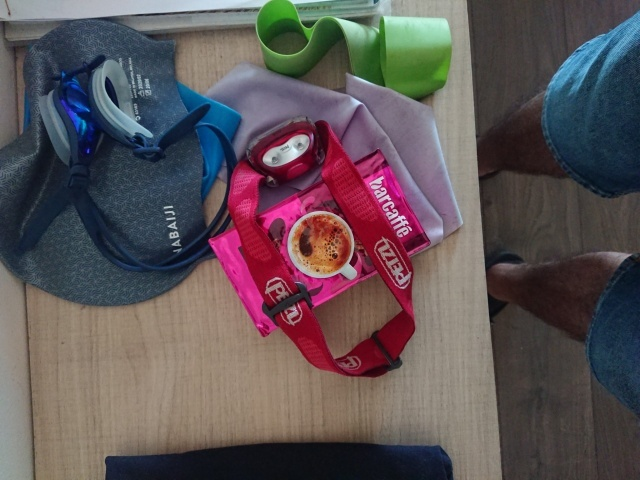Barcaffe Classic Original 225g: (205, 144, 435, 343)
